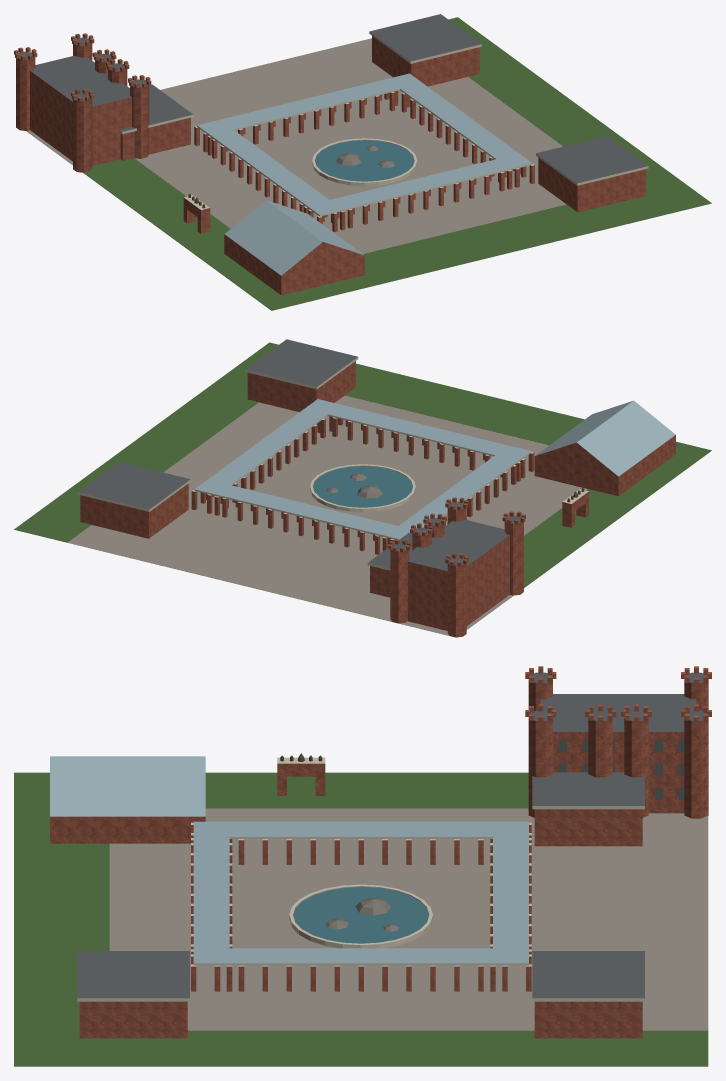
File: central_park_zoo.glb
The picture shows the model from 3 angles, top to bottom: view 1: azimuth 30°, elevation 25°; view 2: azimuth 150°, elevation 25°; view 3: azimuth 270°, elevation 25°; orthographic projection. The views are drawn at different scales.
Parts seen in each view (by area): view 1: central_park_zoo; view 2: central_park_zoo; view 3: central_park_zoo.
Part boxes in pixels (x1,y1,x2,y2): central_park_zoo: (14, 14, 711, 310); central_park_zoo: (14, 339, 711, 637); central_park_zoo: (14, 666, 711, 1066).
Bounding box in the file's own units: 118 × 18.92 × 117.
2 materials, 2 textured.
